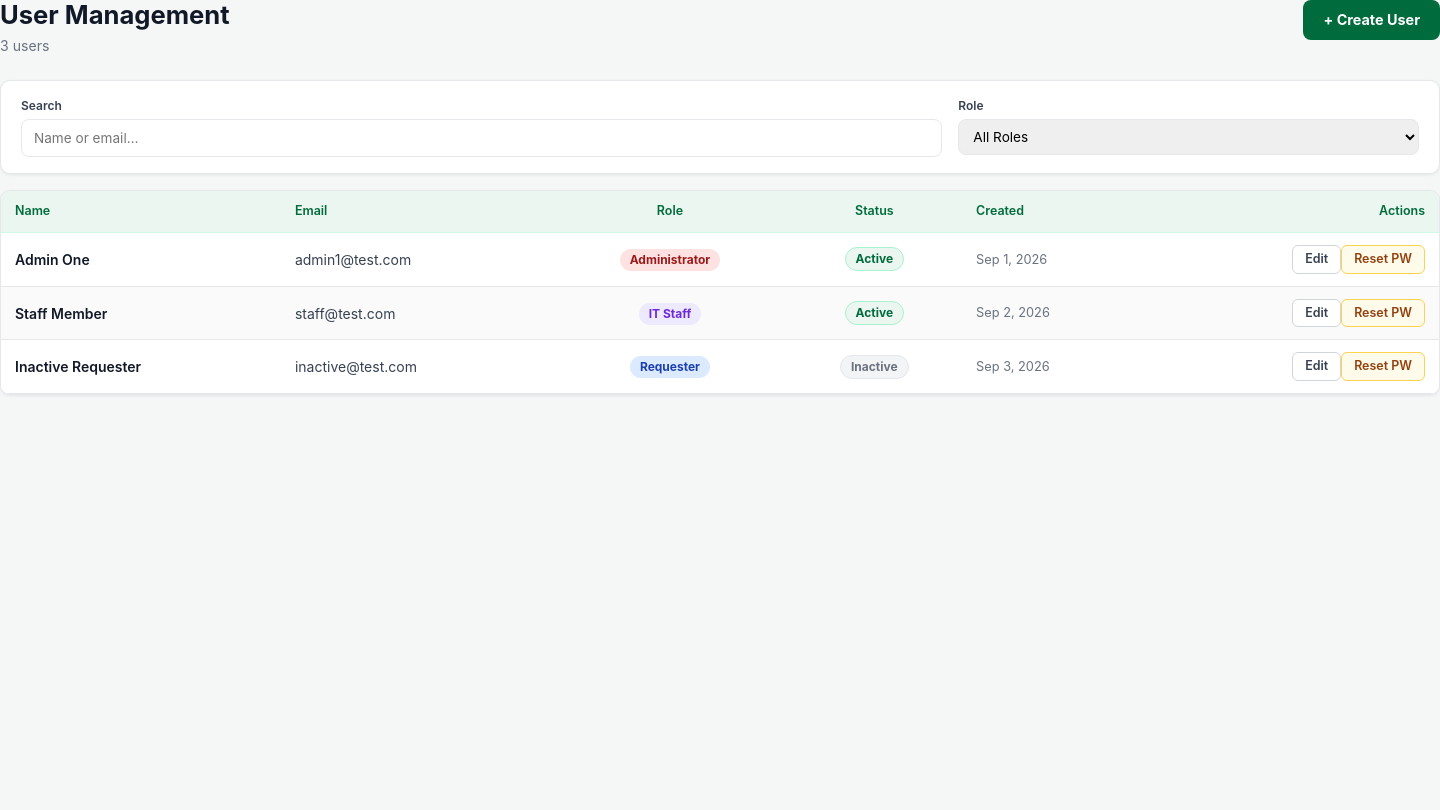
Test case: UI-14 — UserManagement disables Active toggle when editing own account › Active checkbox is NOT disabled when editing a different user
Click the button with id "btn-edit-user-2" at (1317, 313), box [1292,299,1341,327]
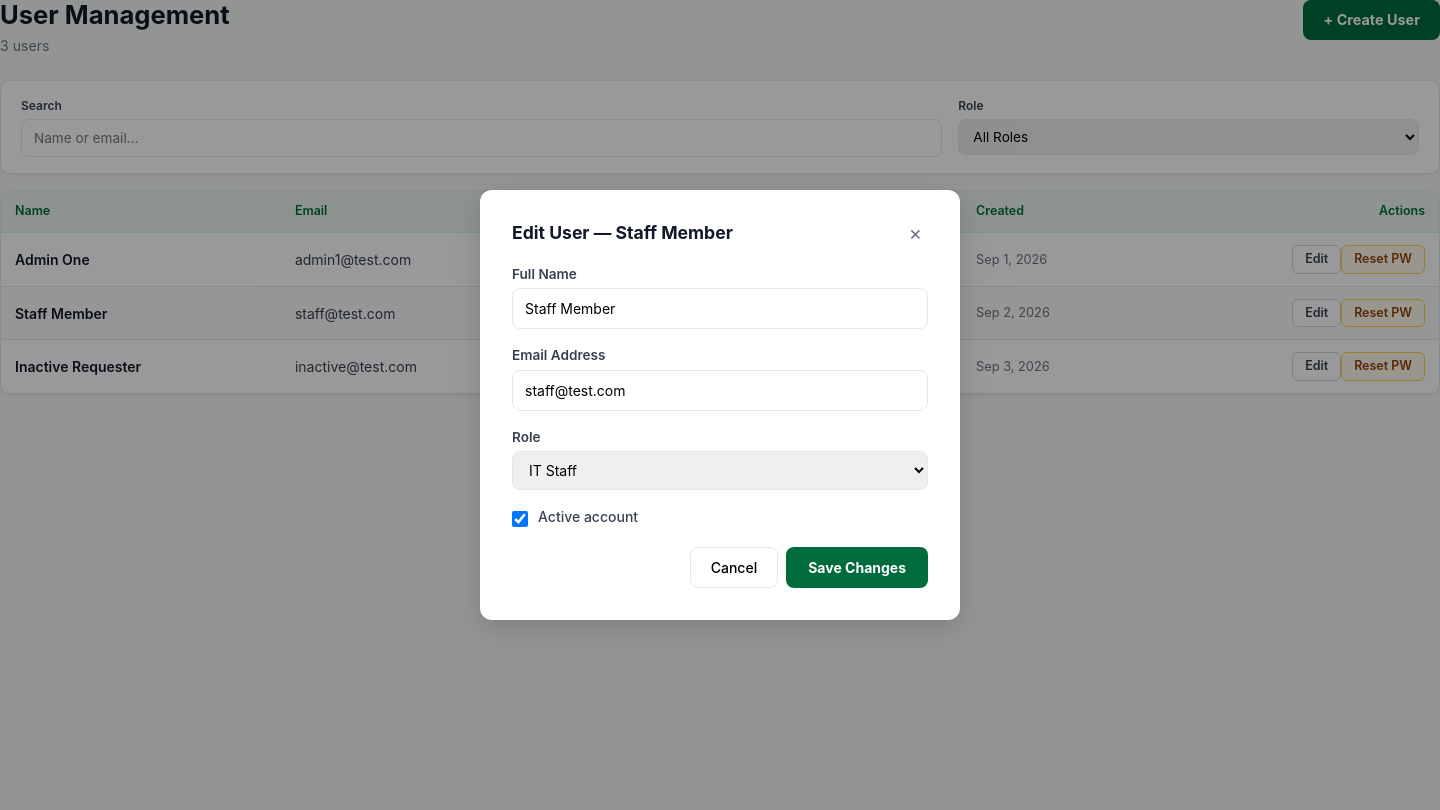
Expected: the checkbox with id "modal-active" is enabled, [512,511,528,527]
